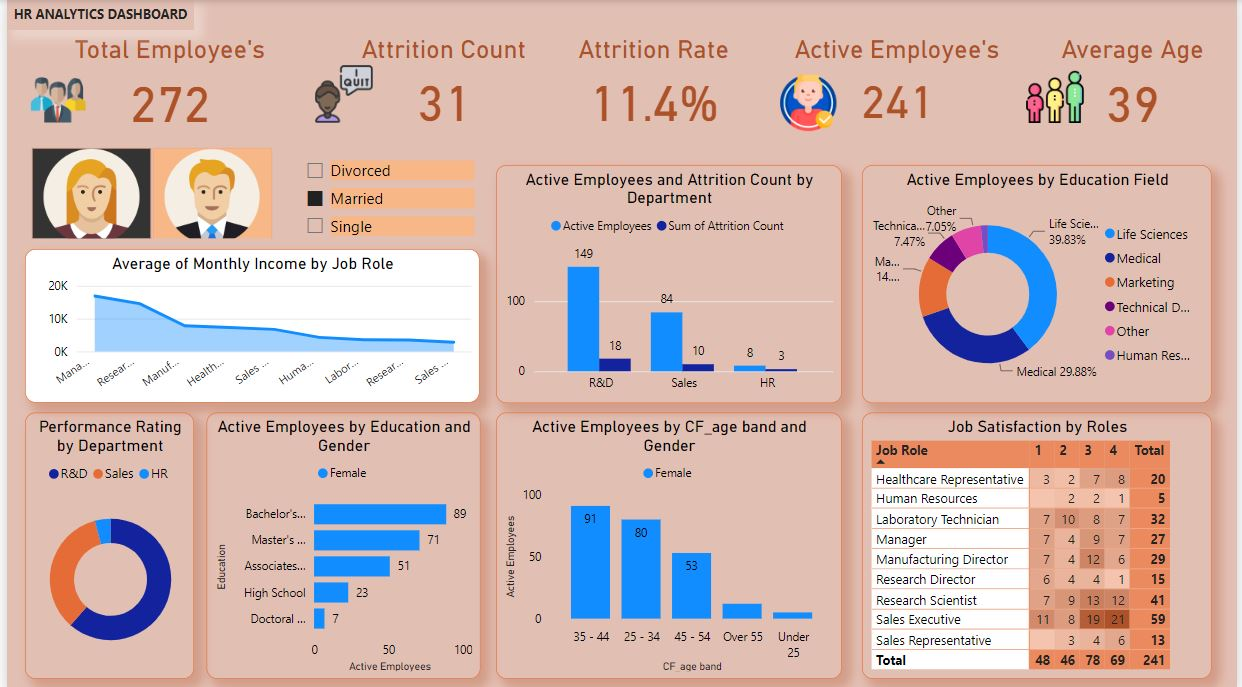

What the dashboard file says about the page in this screenshot:
{"tool":"powerbi","page":{"name":"Page 1","canvas":[1280,720],"ordinal":0},"visuals":[{"type":"card","title":"Total Employee''s","fields":{"Values":["Sum(HR data.Employee Count)"]},"box":[54.1,36.5,229.7,102.7],"z":0},{"type":"card","title":"Attrition Count","fields":{"Values":["Sum(HR data.Attrition Validation)"]},"box":[347.3,36.5,216.2,100],"z":1000},{"type":"card","title":"Attrition Rate","fields":{"Values":["HR data.Attrition Rate"]},"box":[563.5,36.5,218.9,100],"z":2000},{"type":"card","title":"Active Employee''s","fields":{"Values":["HR data.Active Employees"]},"box":[809.5,36.5,235.1,98.6],"z":3000},{"type":"card","title":"Average Age","fields":{"Values":["Avg(HR data.Age)"]},"box":[1090.5,36.5,163.5,102.7],"z":4000},{"type":"clusteredColumnChart","title":"Active Employees and Attrition Count by Department","fields":{"Category":["HR data.Department"],"Y":["HR data.Active Employees","Sum(HR data.Attrition Validation)"]},"box":[509,171.6,359.7,247.8],"z":5000},{"type":"donutChart","fields":{"Y":["HR data.Active Employees"],"Category":["HR data.Education Field"]},"box":[889.6,171.6,364.2,247.8],"z":6000},{"type":"columnChart","fields":{"Y":["HR data.Active Employees"],"Category":["HR data.CF_age band"],"Series":["HR data.Gender"]},"box":[509,429.9,359.7,277.6],"z":7000},{"type":"pivotTable","title":"Job Satisfaction by Roles","fields":{"Rows":["HR data.Job Role"],"Columns":["HR data.Job Satisfaction"],"Values":["HR data.Active Employees"]},"box":[889.6,429.9,364.2,277.6],"z":8000},{"type":"areaChart","fields":{"Category":["HR data.Job Role"],"Y":["Avg(HR data.Monthly Income)"]},"box":[19.4,259.7,473.1,159.7],"z":9000},{"type":"donutChart","title":"Performance Rating by Department","fields":{"Category":["HR data.Department"],"Y":["Sum(HR data.Performance Rating)"]},"box":[19.4,429.9,176.1,277.6],"z":10000},{"type":"clusteredBarChart","fields":{"Category":["HR data.Education"],"Y":["HR data.Active Employees"],"Series":["HR data.Gender"]},"box":[207.5,429.9,285.1,277.6],"z":11000},{"type":"slicer","fields":{"Values":["HR data.Marital Status"]},"box":[300,158.1,191.9,101.4],"z":12000},{"type":"image","box":[18.9,68.9,68.9,70.3],"z":13000},{"type":"image","box":[1055.4,66.2,70.3,70.3],"z":14000},{"type":"image","box":[800,71.6,68.9,70.3],"z":15000},{"type":"image","box":[326.4,68.7,70.3,70.3],"z":16000},{"type":"slicer","fields":{"Values":["Gender data.Images"]},"box":[0,147.3,300,101.4],"z":17000},{"type":"textbox","box":[0,0,284.3,35.9],"z":18000}]}

Visuals, with their boxes in screenshot pixels (x1, y1, x2, y2), scaled from the page's 1280x720 canvas onto the 1242x687 screenshot:
"Total Employee''s" card: bbox=(52, 35, 275, 133)
"Attrition Count" card: bbox=(337, 35, 547, 130)
"Attrition Rate" card: bbox=(547, 35, 759, 130)
"Active Employee''s" card: bbox=(785, 35, 1014, 129)
"Average Age" card: bbox=(1058, 35, 1217, 133)
"Active Employees and Attrition Count by Department" clusteredColumnChart: bbox=(494, 164, 843, 400)
donutChart - HR data.Active Employees x HR data.Education Field: bbox=(863, 164, 1217, 400)
columnChart - HR data.Active Employees x HR data.CF_age band: bbox=(494, 410, 843, 675)
"Job Satisfaction by Roles" pivotTable: bbox=(863, 410, 1217, 675)
areaChart - HR data.Job Role x Avg(HR data.Monthly Income): bbox=(19, 248, 478, 400)
"Performance Rating by Department" donutChart: bbox=(19, 410, 190, 675)
clusteredBarChart - HR data.Education x HR data.Active Employees: bbox=(201, 410, 478, 675)
slicer - HR data.Marital Status: bbox=(291, 151, 477, 248)
image: bbox=(18, 66, 85, 133)
image: bbox=(1024, 63, 1092, 130)
image: bbox=(776, 68, 843, 135)
image: bbox=(317, 66, 385, 133)
slicer - Gender data.Images: bbox=(0, 141, 291, 237)
textbox: bbox=(0, 0, 276, 34)
